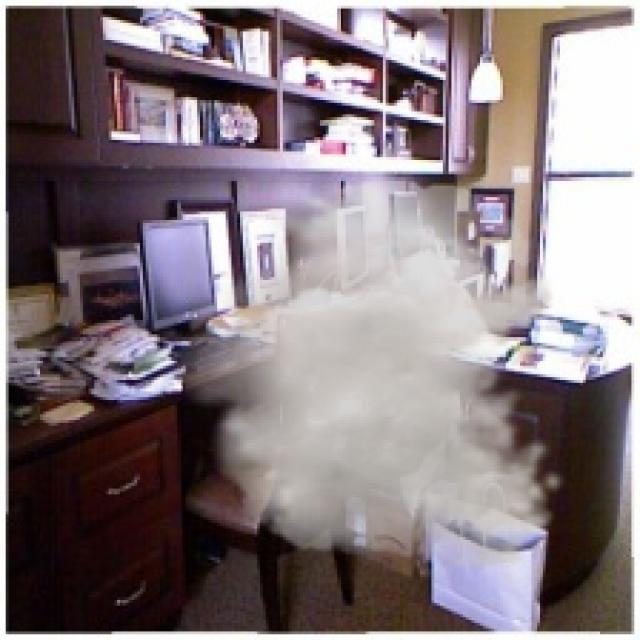smoke: (160, 177, 566, 572)
